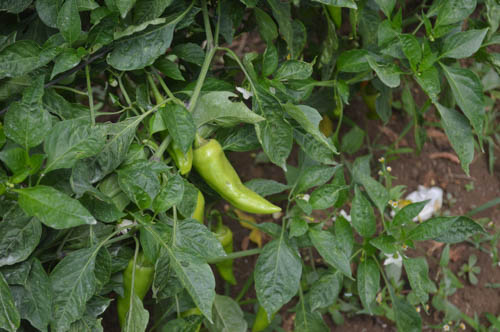ChiliPepper: (193, 140, 283, 223), (117, 254, 155, 330), (211, 227, 239, 290), (183, 190, 210, 232), (250, 299, 274, 332)
